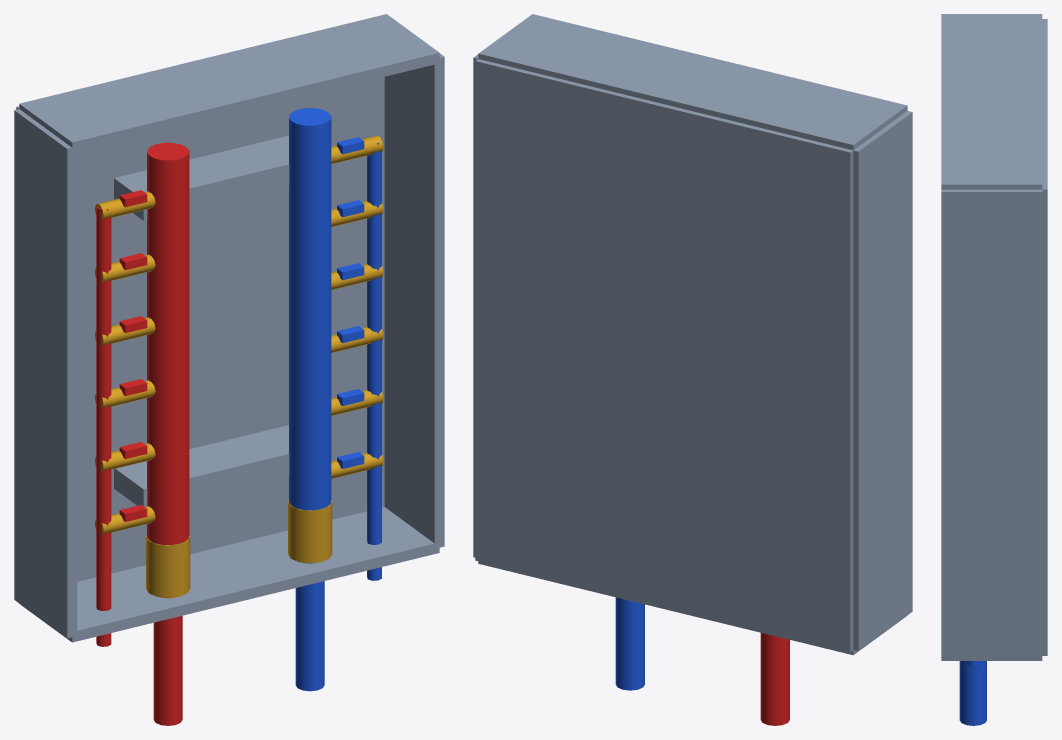
The model's file is pex-manifold-12-open.glb.
3 renders of one model, left to right at view 1: azimuth 30°, elevation 25°; view 2: azimuth 150°, elevation 25°; view 3: azimuth 270°, elevation 25°, orthographic. The views are drawn at different scales.
Visible parts, largest first — view 1: plumbing-manifold-pex-homerun-open-manifold; view 2: plumbing-manifold-pex-homerun-open-manifold; view 3: plumbing-manifold-pex-homerun-open-manifold.
Boxes of the visible parts, <box> form: plumbing-manifold-pex-homerun-open-manifold: <box>14,14,444,725</box>; plumbing-manifold-pex-homerun-open-manifold: <box>473,14,912,725</box>; plumbing-manifold-pex-homerun-open-manifold: <box>941,14,1047,725</box>.
Size of the model in its own units: 0.452 by 0.706 by 0.116.
